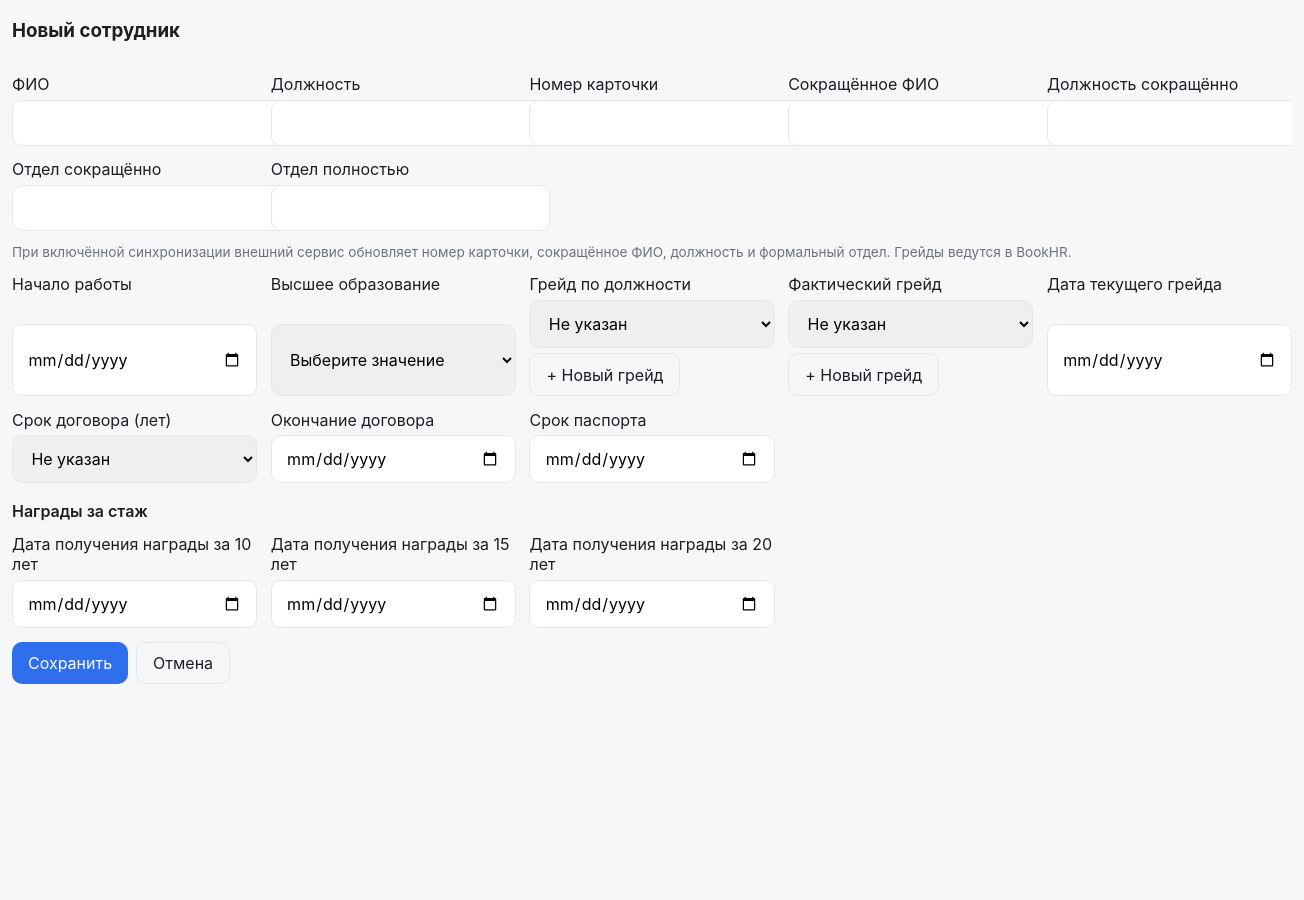
Test: EmployeeForm › requires an explicit university choice
Type "Без Выбора" into the field labelled "ФИО" at (151,123), box [12,100,291,146]
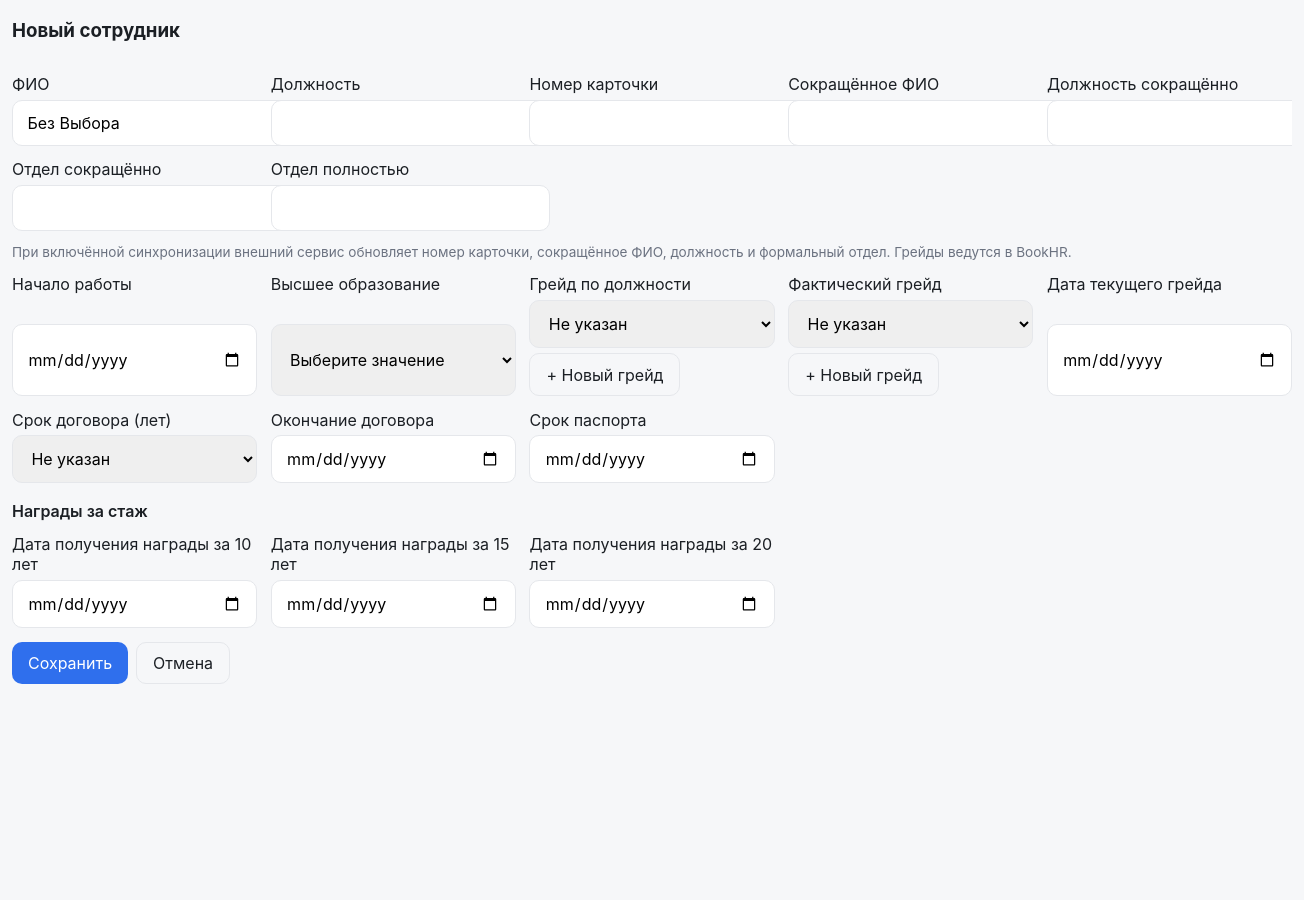
Type "2024-01-01" into the date field labelled "Начало работы" at (135,360), box [12,324,257,396]
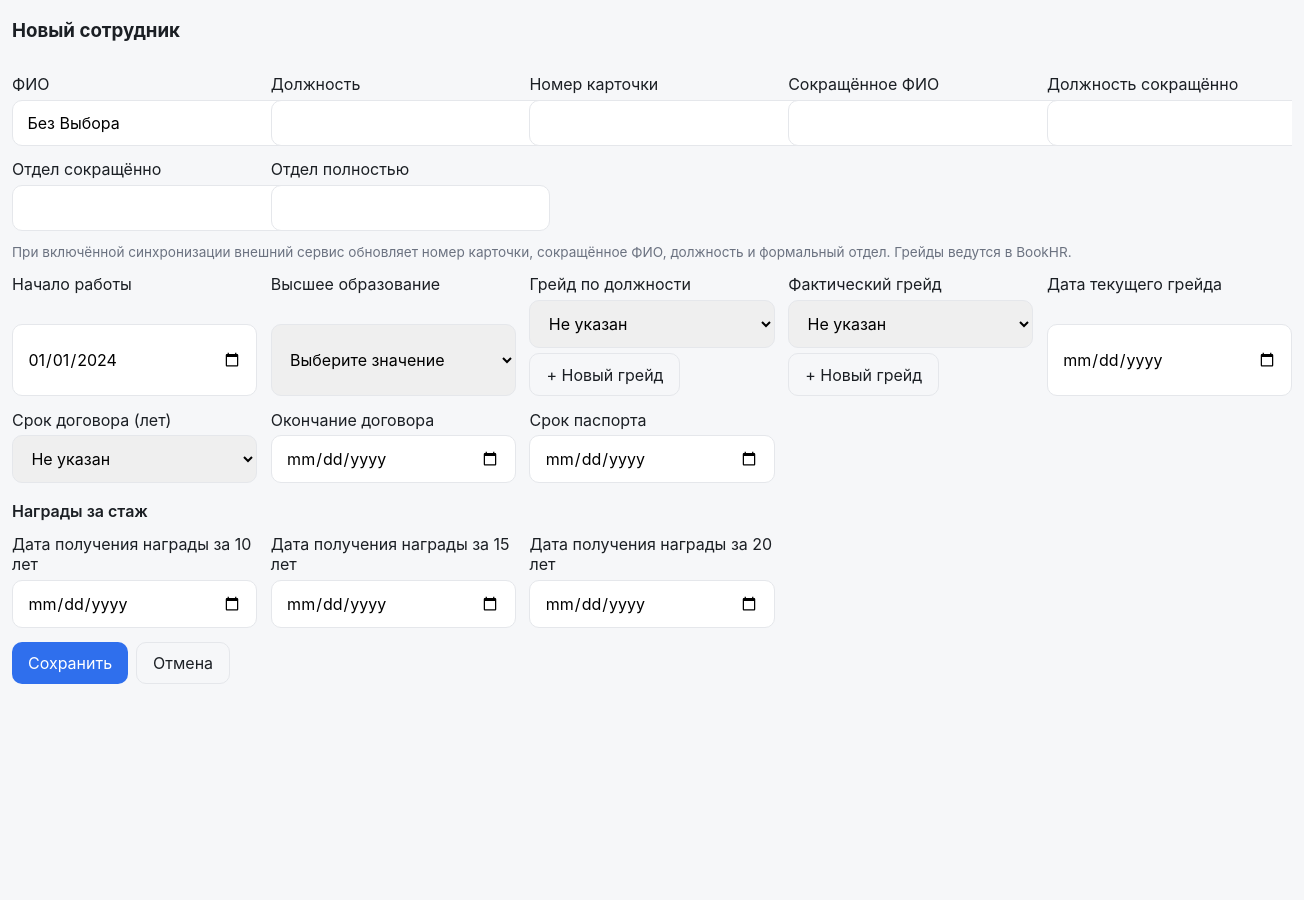
Submit the form
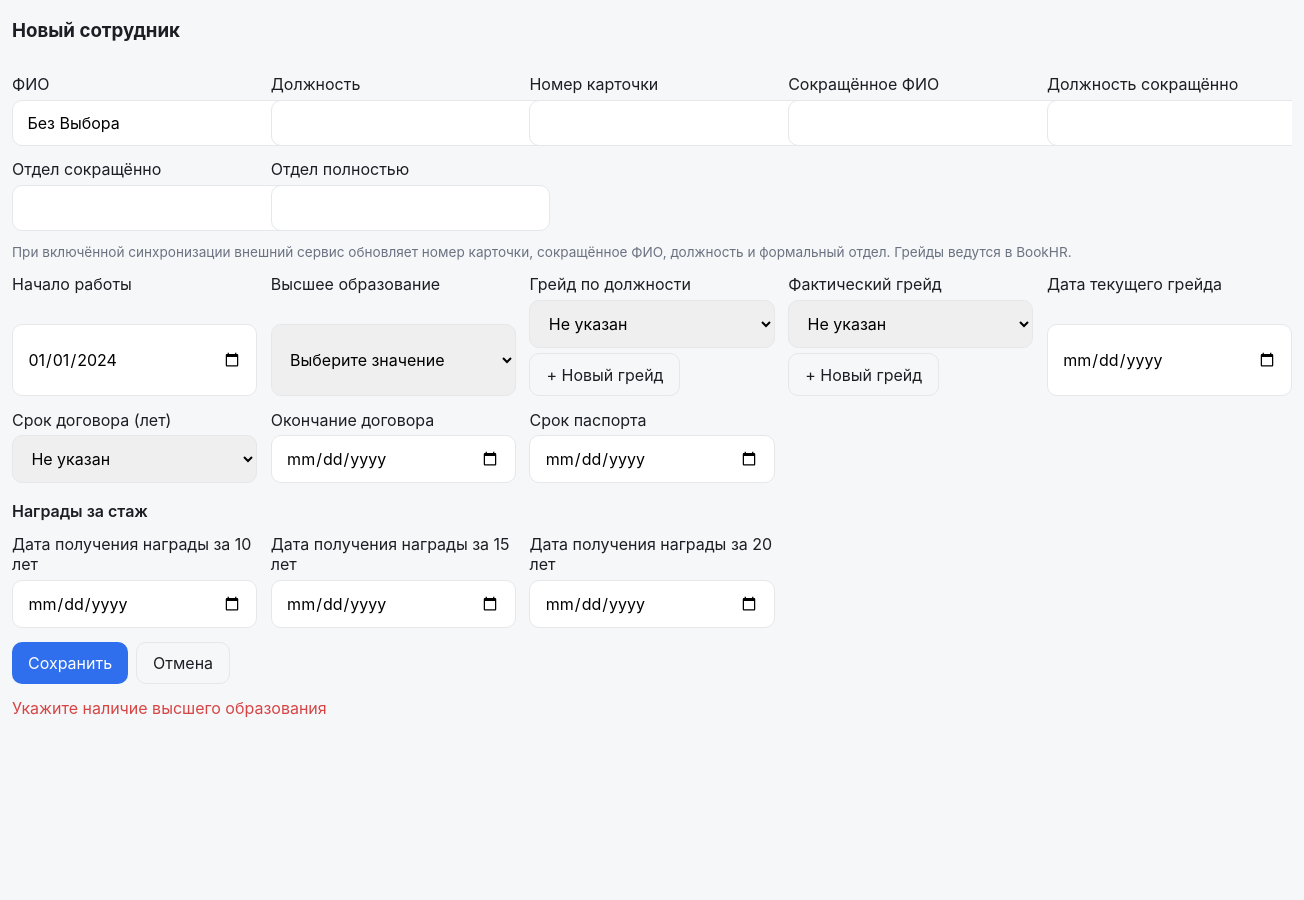
Check: the form shows "Укажите наличие высшего образования", box [12,698,327,718]
